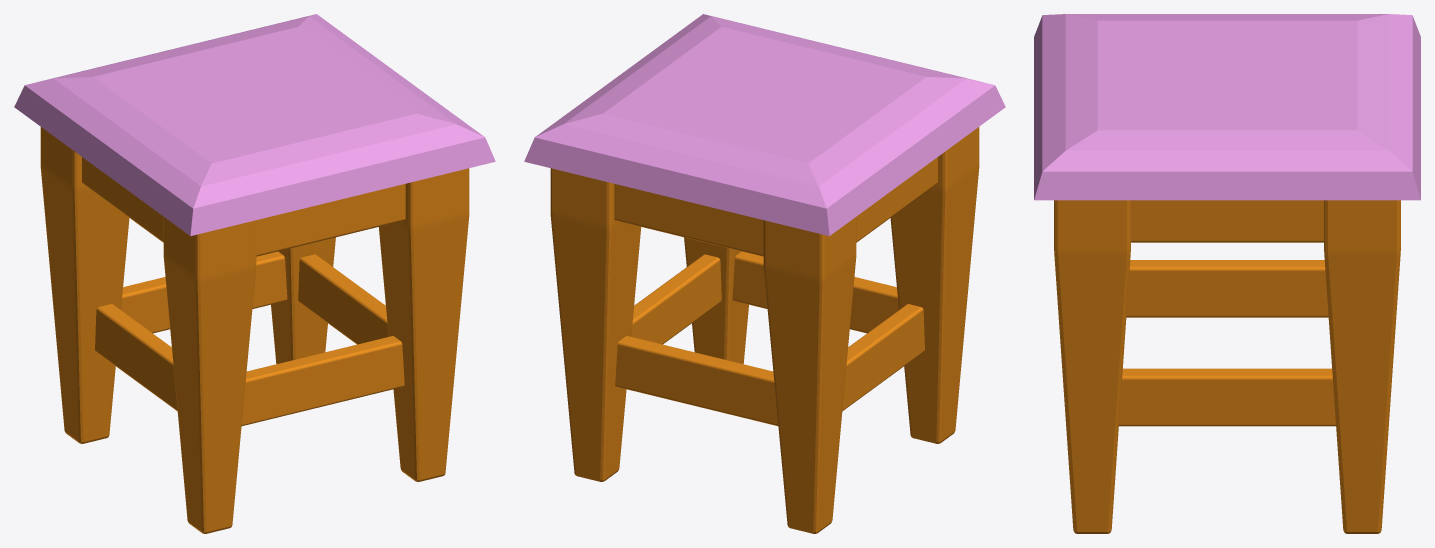
File: табуретка.fbx
3 renders of one model, left to right at view 1: azimuth 30°, elevation 25°; view 2: azimuth 150°, elevation 25°; view 3: azimuth 270°, elevation 25°, orthographic. The views are drawn at different scales.
Visible parts, largest first — view 1: Плоскость.001, Плоскость.003, Плоскость.002, Плоскость; view 2: Плоскость.001, Плоскость.003, Плоскость.002, Плоскость; view 3: Плоскость.003, Плоскость.001, Плоскость.002, Плоскость.
Part boxes in pixels (x1,y1,x2,y2): Плоскость.001: (40, 127, 469, 533); Плоскость.003: (14, 14, 495, 236); Плоскость.002: (95, 251, 404, 425); Плоскость: (82, 157, 405, 256); Плоскость.001: (550, 127, 979, 533); Плоскость.003: (524, 14, 1005, 236); Плоскость.002: (615, 251, 924, 425); Плоскость: (614, 157, 937, 256); Плоскость.003: (1034, 14, 1420, 200); Плоскость.001: (1054, 200, 1400, 533); Плоскость.002: (1119, 260, 1335, 426); Плоскость: (1131, 200, 1323, 242).
Bounding box in the file's own units: 237 × 267 × 237.
